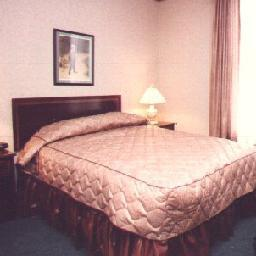Cama: (33, 112, 250, 254)
